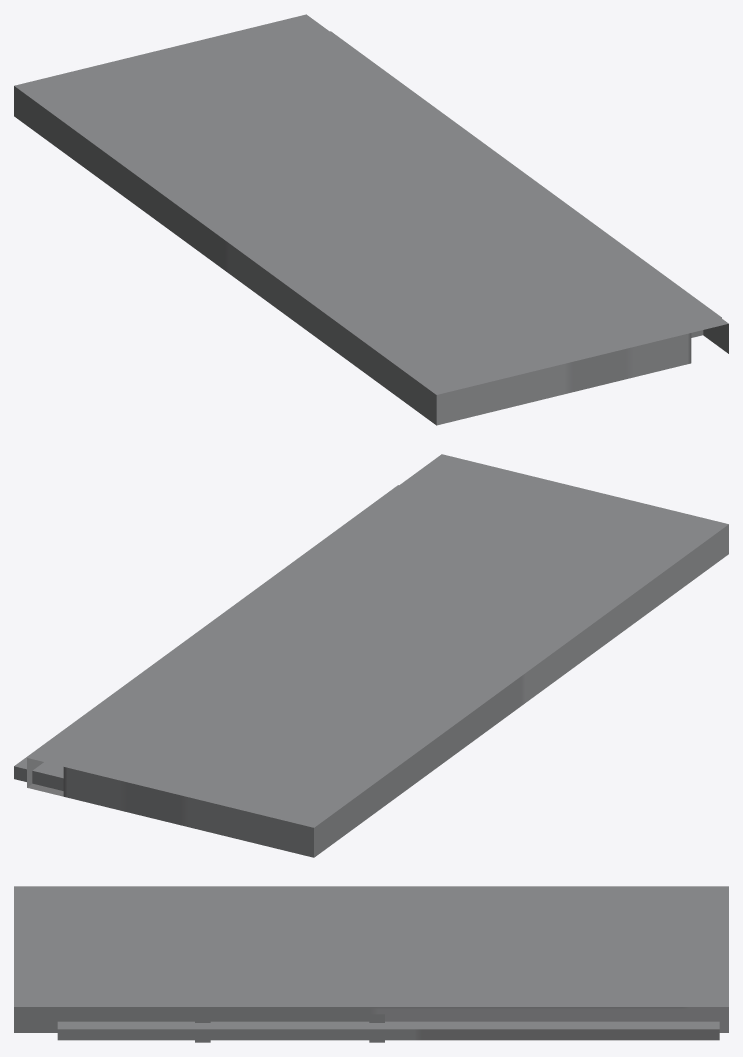
The picture shows the model from 3 angles, top to bottom: view 1: azimuth 30°, elevation 25°; view 2: azimuth 150°, elevation 25°; view 3: azimuth 270°, elevation 25°; orthographic projection. The views are drawn at different scales.
Size of the model in its own units: 0.8028 by 0.1 by 1.89.
